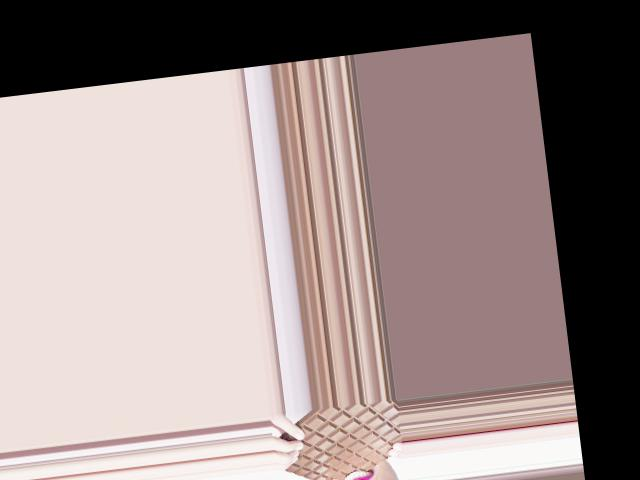chocolate: (269, 399, 405, 480)
